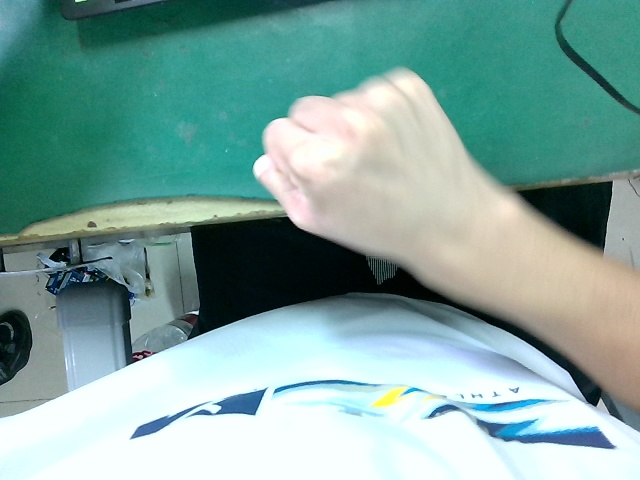stone: (255, 61, 484, 287)
